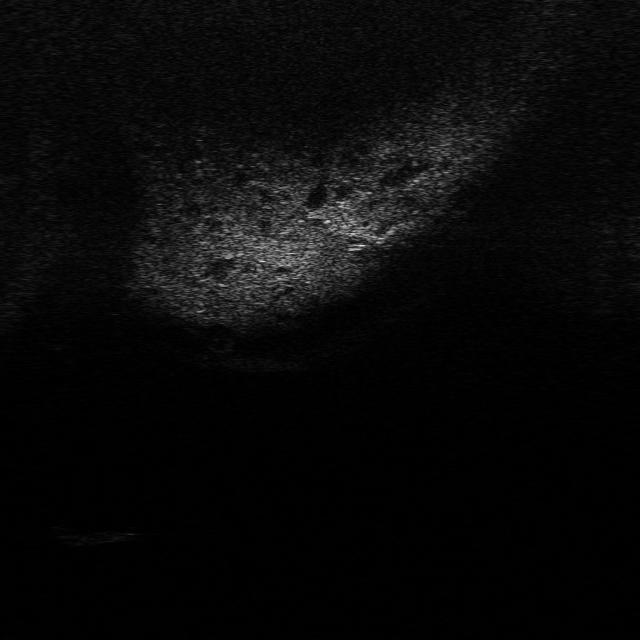cube: (48, 519, 136, 551)
